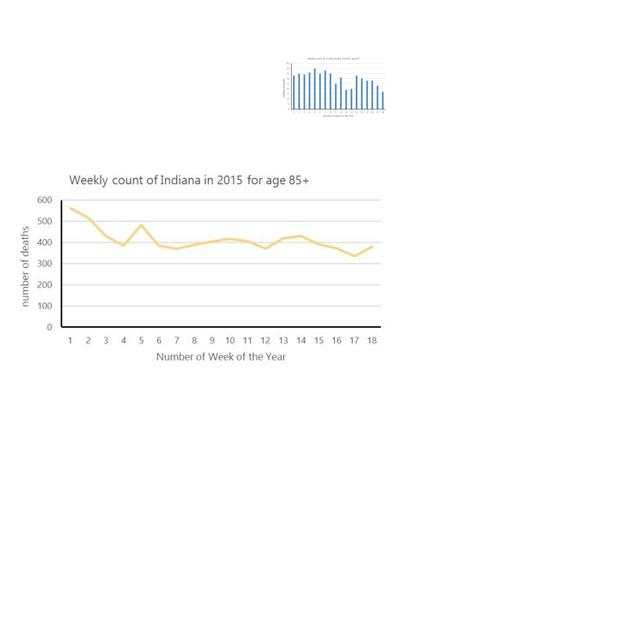Graph: (15, 168, 387, 369), (280, 55, 388, 120)
